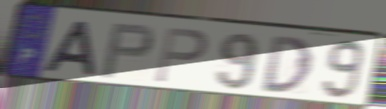9: (318, 38, 366, 102), (213, 31, 261, 92)
A: (41, 19, 99, 78)
D: (260, 34, 314, 95)
P: (152, 25, 210, 85), (98, 22, 156, 81)
